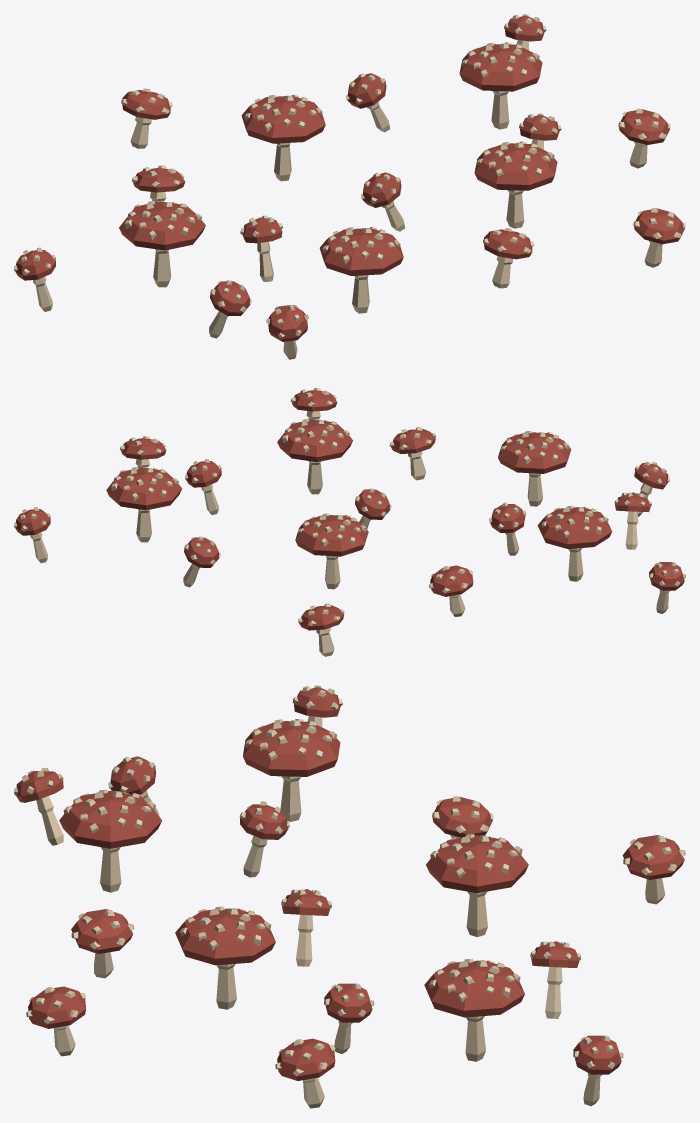
File: SM_Prop_Mushroom_Sparse_05.fbx
3 renders of one model, top to bottom at view 1: azimuth 30°, elevation 25°; view 2: azimuth 150°, elevation 25°; view 3: azimuth 270°, elevation 25°, orthographic. The views are drawn at different scales.
Visible parts, largest first — view 1: SM_Prop_Mushroom_Sparse_05; view 2: SM_Prop_Mushroom_Sparse_05; view 3: SM_Prop_Mushroom_Sparse_05.
Part boxes in pixels (<box>): SM_Prop_Mushroom_Sparse_05: <box>14,14,685,359</box>; SM_Prop_Mushroom_Sparse_05: <box>14,388,685,656</box>; SM_Prop_Mushroom_Sparse_05: <box>14,685,685,1108</box>.
Size of the model in its own units: 173 by 21.65 by 132.
1 material, 1 textured.
